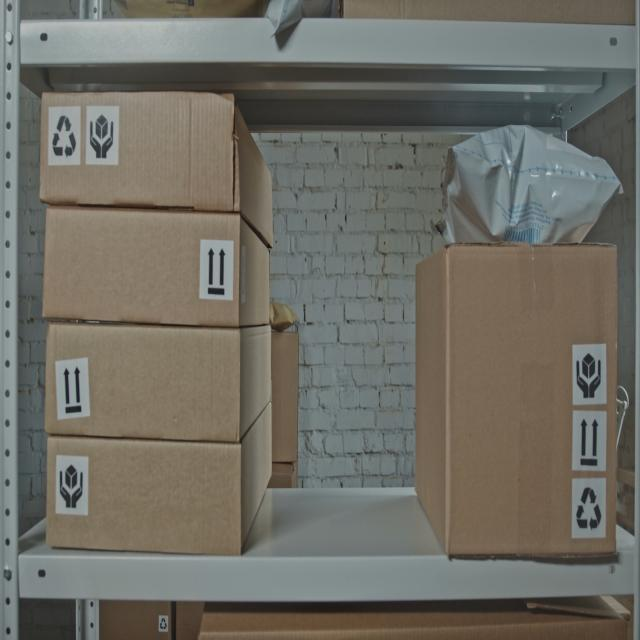counting-the-number-of-boxes: (414, 246, 617, 557), (40, 92, 273, 248), (46, 400, 272, 553), (44, 322, 271, 443), (42, 209, 269, 327), (272, 331, 299, 462), (267, 463, 298, 487)
